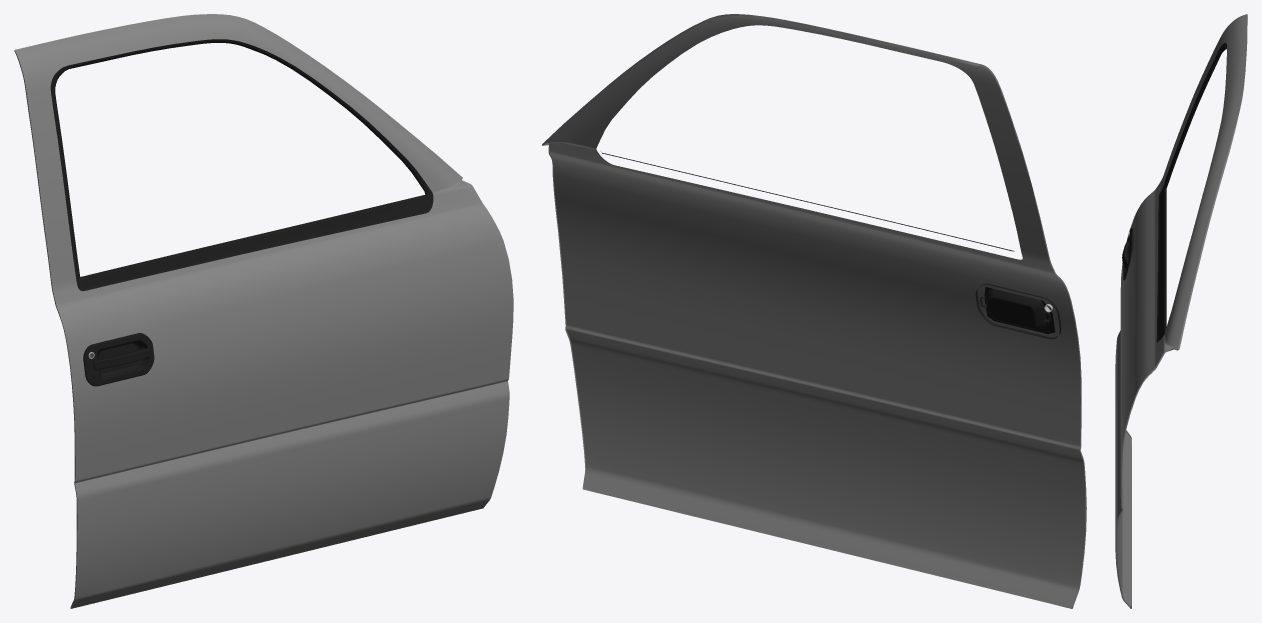
The picture shows the model from 3 angles, left to right: view 1: azimuth 30°, elevation 25°; view 2: azimuth 150°, elevation 25°; view 3: azimuth 270°, elevation 25°; orthographic projection. The views are drawn at different scales.
Visible parts, largest first — view 1: U803_1A_281B_R_1_DaS_U803_1A_281B_R, U803_1A_281B_R_U803_1A_281B_R_2_D, U803_1A_281B_R_1_DaS_U803_1A_281B_R_E; view 2: U803_1A_281B_R_1_DaS_U803_1A_281B_R, U803_1A_281B_R_1_DaS_U803_1A_281B_R_E, U803_1A_281B_R_U803_1A_281B_R_2_D; view 3: U803_1A_281B_R_1_DaS_U803_1A_281B_R, U803_1A_281B_R_U803_1A_281B_R_2_D, U803_1A_281B_R_1_DaS_U803_1A_281B_R_E.
Boxes of the visible parts, left/top/right/bottom form: U803_1A_281B_R_1_DaS_U803_1A_281B_R: left=15, top=14, right=513, bottom=608; U803_1A_281B_R_U803_1A_281B_R_2_D: left=50, top=39, right=433, bottom=386; U803_1A_281B_R_1_DaS_U803_1A_281B_R_E: left=14, top=50, right=507, bottom=608; U803_1A_281B_R_1_DaS_U803_1A_281B_R: left=546, top=16, right=1085, bottom=608; U803_1A_281B_R_1_DaS_U803_1A_281B_R_E: left=542, top=14, right=1086, bottom=608; U803_1A_281B_R_U803_1A_281B_R_2_D: left=602, top=152, right=1061, bottom=339; U803_1A_281B_R_1_DaS_U803_1A_281B_R: left=1115, top=14, right=1247, bottom=606; U803_1A_281B_R_U803_1A_281B_R_2_D: left=1122, top=43, right=1226, bottom=342; U803_1A_281B_R_1_DaS_U803_1A_281B_R_E: left=1115, top=15, right=1247, bottom=608.
Bounding box in the file's own units: 112 × 123 × 34.35.
